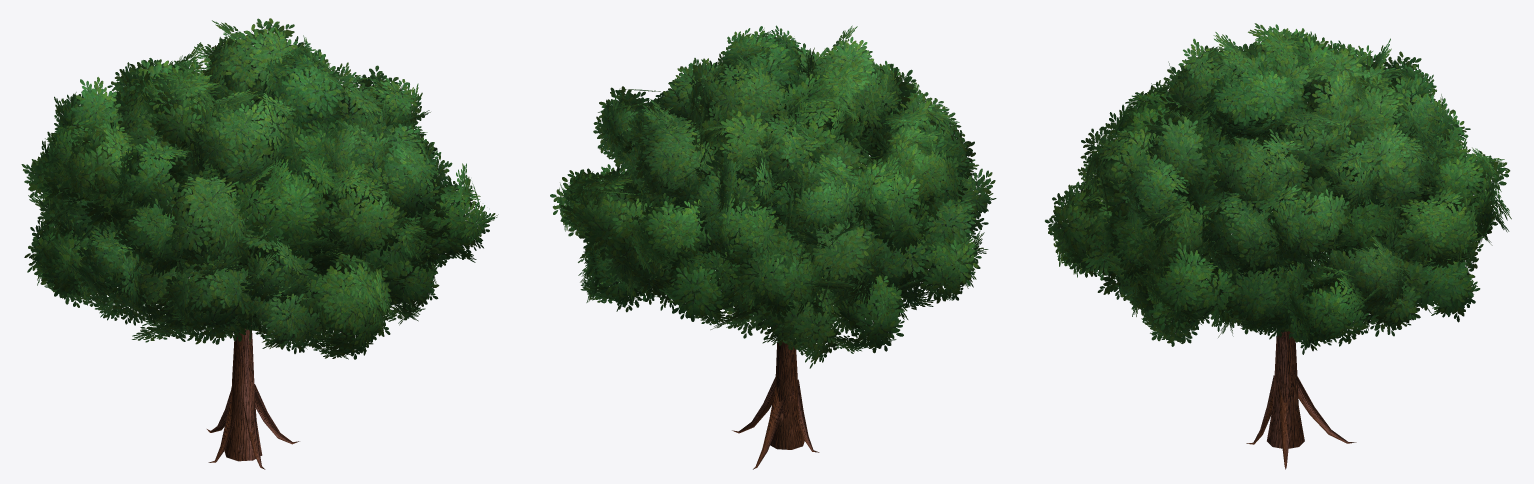
Rendered from mm6_deco_tree22.glb.
3 views of the same model, side by side, from view 1: azimuth 30°, elevation 25°; view 2: azimuth 150°, elevation 25°; view 3: azimuth 270°, elevation 25° (orthographic). The views are drawn at different scales.
Visible parts, largest first — view 1: Tree; view 2: Tree; view 3: Tree.
Boxes of the visible parts, x1=… form: Tree: x1=21, y1=18, x2=498, y2=469; Tree: x1=550, y1=25, x2=996, y2=469; Tree: x1=1045, y1=23, x2=1511, y2=469.
Bounding box in the file's own units: 2.83 × 2.61 × 2.79.
2 materials, 2 textured.
